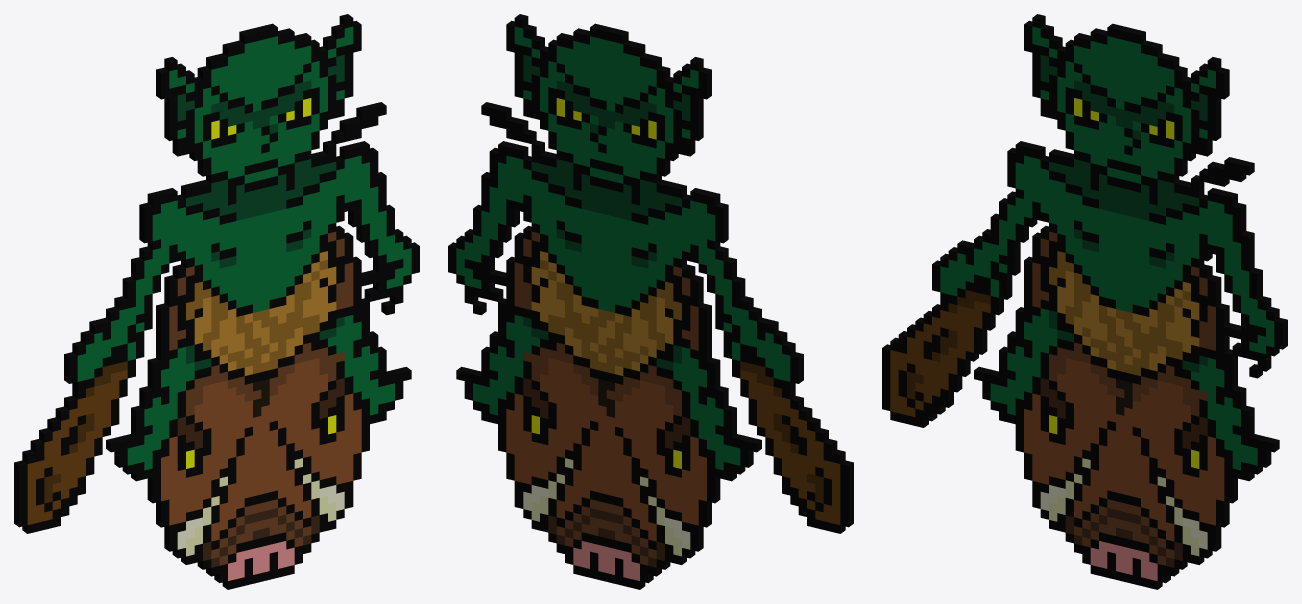
File: GobRidah.fbx
3 renders of one model, left to right at view 1: azimuth 30°, elevation 25°; view 2: azimuth 150°, elevation 25°; view 3: azimuth 330°, elevation 25°, orthographic.
Parts seen in each view (by area): view 1: Curve.1370; view 2: Curve.1370; view 3: Curve.1370.
Part boxes in pixels (x1=…): Curve.1370: x1=14, y1=14, x2=419, y2=589; Curve.1370: x1=448, y1=14, x2=853, y2=589; Curve.1370: x1=882, y1=14, x2=1287, y2=589.
Size of the model in its own units: 40.64 by 53.33 by 0.9.
